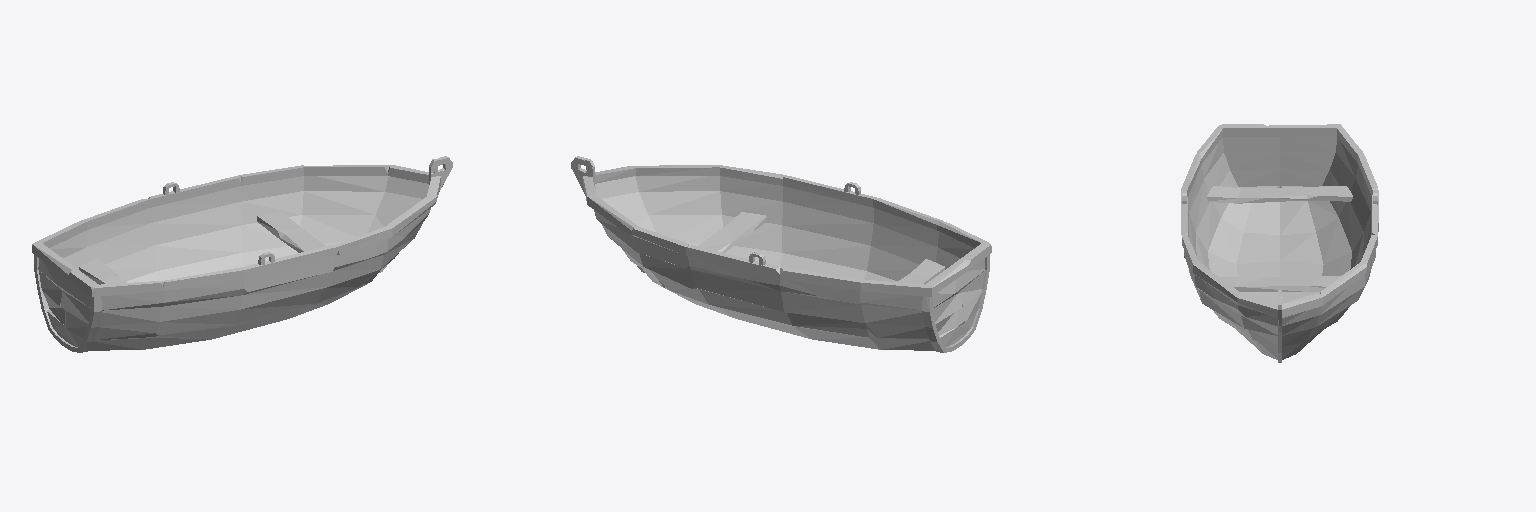
The model's file is Boat.obj.
3 renders of one model, left to right at view 1: azimuth 30°, elevation 25°; view 2: azimuth 150°, elevation 25°; view 3: azimuth 270°, elevation 25°, orthographic.
Parts seen in each view (by area): view 1: Boat; view 2: Boat; view 3: Boat.
Boxes of the visible parts, <box> form: Boat: <box>32,156,452,352</box>; Boat: <box>571,156,991,352</box>; Boat: <box>1181,124,1378,362</box>.
Size of the model in its own units: 4.19 by 1.07 by 1.84.